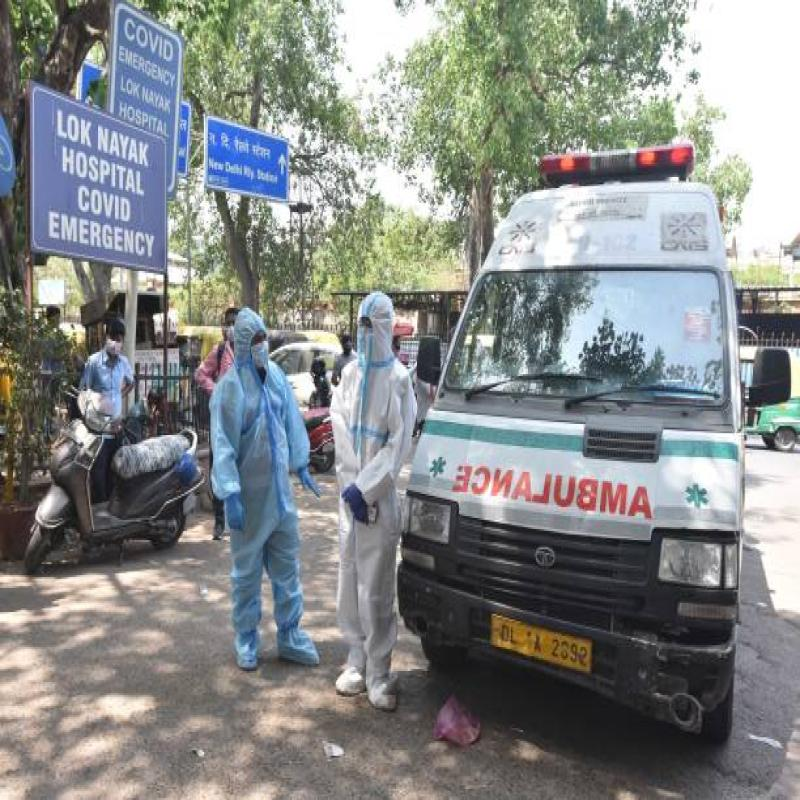ambulance: (378, 100, 767, 752)
